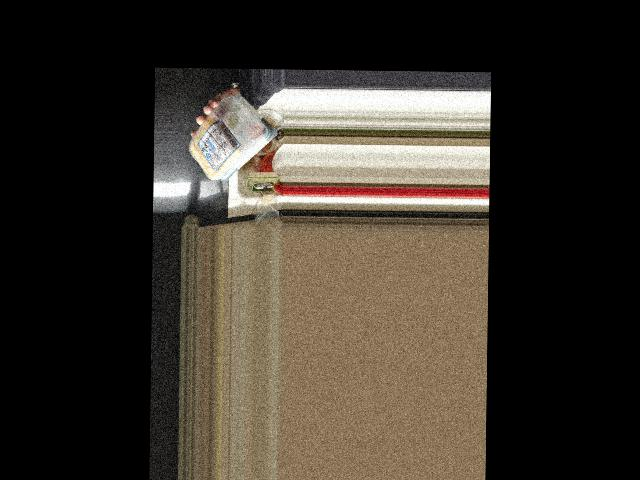cheese: (193, 93, 265, 182)
